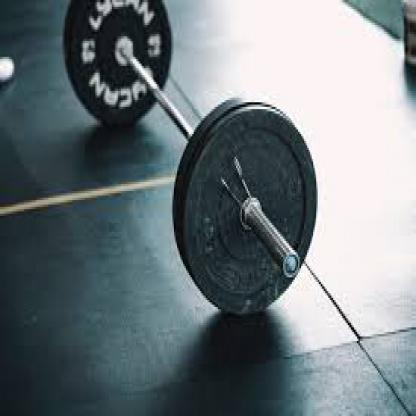barbell: (62, 0, 318, 315)
